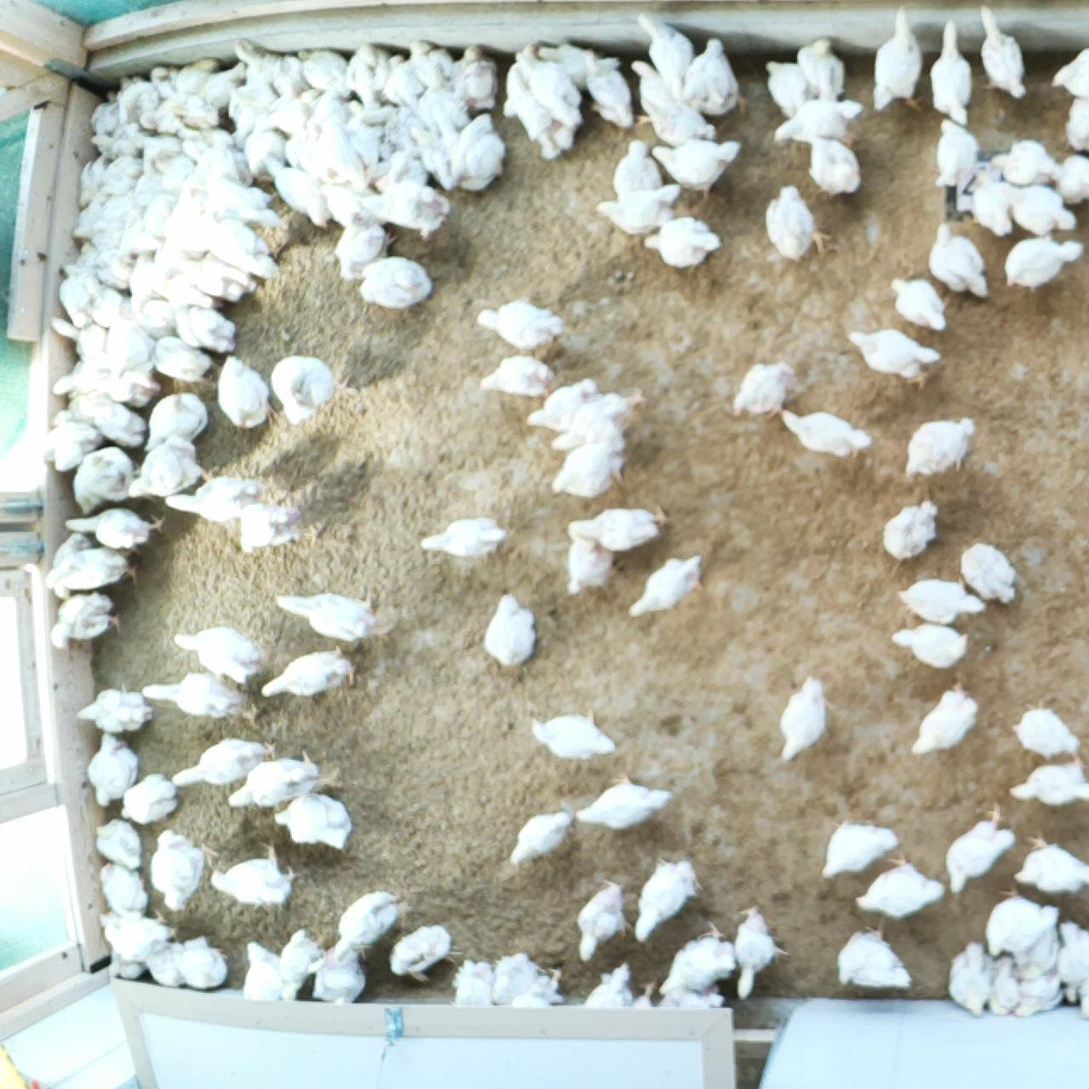chicken: (500, 42, 589, 160), (268, 582, 397, 648), (138, 670, 267, 734), (226, 748, 350, 814), (619, 547, 713, 629), (862, 0, 929, 115), (546, 385, 650, 458), (205, 838, 307, 912), (124, 433, 220, 509), (475, 287, 567, 364), (838, 320, 942, 388), (632, 850, 706, 945), (653, 916, 737, 999), (944, 798, 1013, 899), (525, 700, 620, 773), (145, 824, 221, 915), (848, 846, 944, 917), (756, 181, 833, 269), (574, 766, 676, 832), (673, 33, 751, 119), (627, 56, 708, 138), (259, 640, 364, 703), (56, 503, 171, 560), (159, 462, 268, 522), (729, 897, 791, 1002), (648, 132, 745, 198), (774, 402, 874, 466), (563, 498, 674, 555), (833, 912, 911, 993), (171, 732, 278, 791), (170, 620, 267, 685), (925, 214, 995, 304), (898, 408, 978, 486), (810, 812, 900, 881), (195, 209, 283, 279), (334, 881, 405, 967), (930, 12, 981, 131), (908, 680, 983, 760), (265, 351, 341, 429), (978, 880, 1060, 952), (1013, 823, 1089, 899), (1009, 694, 1089, 766), (1001, 233, 1089, 298), (368, 182, 460, 244), (42, 588, 123, 658), (478, 588, 542, 676), (271, 785, 353, 853), (331, 202, 398, 285), (771, 673, 832, 764), (951, 533, 1024, 609), (67, 678, 155, 741), (542, 439, 631, 501), (37, 544, 147, 594), (977, 0, 1031, 101), (591, 180, 681, 240), (767, 94, 866, 148), (215, 352, 280, 434), (578, 45, 639, 132), (572, 878, 631, 967), (262, 153, 329, 231), (639, 212, 726, 272), (231, 493, 309, 559), (69, 439, 137, 514), (635, 6, 692, 95), (728, 357, 800, 427), (452, 109, 511, 194), (416, 516, 512, 568), (200, 164, 283, 224), (82, 729, 141, 812), (893, 572, 989, 622), (964, 159, 1022, 240), (877, 494, 943, 565), (491, 945, 567, 1006), (386, 920, 454, 988), (502, 806, 573, 871), (93, 906, 180, 959), (799, 133, 868, 199), (138, 332, 225, 384), (523, 374, 602, 431), (1003, 181, 1079, 239), (1006, 756, 1089, 809), (562, 527, 621, 601), (886, 269, 952, 335), (475, 349, 557, 402), (312, 939, 373, 1010), (929, 115, 981, 197), (991, 134, 1065, 191), (418, 58, 471, 137), (944, 936, 993, 1020), (408, 120, 465, 192), (53, 356, 143, 401), (888, 623, 974, 670), (142, 388, 207, 450), (612, 136, 671, 204), (275, 923, 326, 1001), (227, 62, 277, 140), (792, 31, 844, 105), (446, 40, 500, 110), (44, 531, 91, 610), (170, 300, 241, 352), (759, 58, 814, 125), (170, 936, 231, 996), (118, 770, 183, 826), (315, 120, 368, 188), (38, 419, 103, 474), (230, 37, 301, 87), (140, 93, 220, 136), (89, 812, 144, 872), (181, 253, 254, 298), (94, 859, 150, 917), (263, 79, 315, 139), (233, 937, 282, 1000), (1054, 916, 1089, 1004), (162, 185, 207, 252), (183, 116, 244, 165), (344, 39, 389, 105), (580, 956, 636, 1009), (534, 37, 596, 84), (43, 312, 105, 359), (318, 179, 382, 224), (90, 396, 146, 446), (296, 44, 347, 98), (1013, 924, 1062, 980), (284, 118, 332, 175), (345, 98, 385, 166), (1011, 971, 1065, 1021), (241, 120, 289, 175), (406, 32, 453, 88), (382, 48, 424, 110), (985, 947, 1022, 1015), (47, 387, 105, 430), (117, 71, 159, 130), (379, 105, 427, 156), (104, 321, 145, 380), (1048, 46, 1089, 105), (449, 955, 494, 1007), (200, 55, 245, 107), (1050, 147, 1089, 206), (58, 260, 95, 321), (139, 939, 184, 989), (85, 271, 129, 322), (73, 154, 109, 211), (87, 128, 145, 163), (177, 51, 223, 95), (140, 183, 176, 236), (131, 296, 175, 339), (62, 215, 121, 247), (125, 251, 162, 302), (1060, 88, 1089, 153), (368, 151, 423, 185), (103, 943, 150, 982), (125, 122, 180, 155), (102, 153, 146, 194), (156, 242, 189, 295), (85, 87, 121, 135), (652, 987, 723, 1009), (147, 153, 189, 190), (119, 206, 154, 248), (310, 89, 349, 126), (95, 249, 132, 287), (150, 54, 178, 96), (69, 239, 99, 276), (75, 190, 107, 224), (104, 192, 140, 215)
